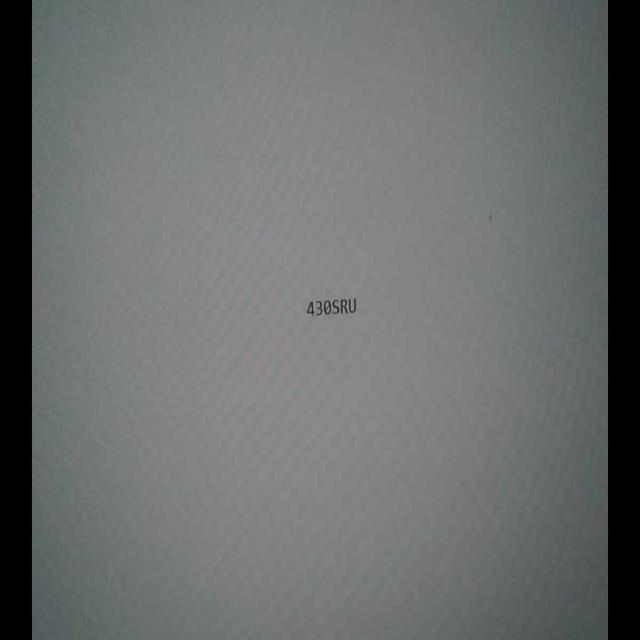license_plate: (305, 294, 361, 325)
